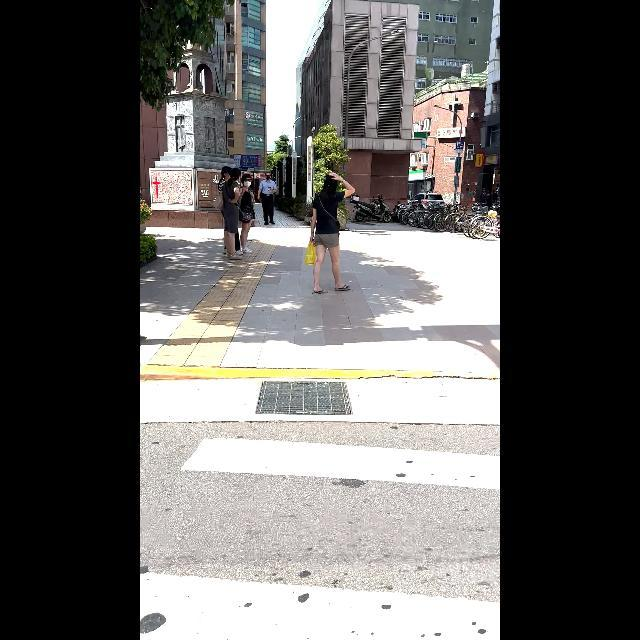sidewalk: (140, 380, 500, 639)
